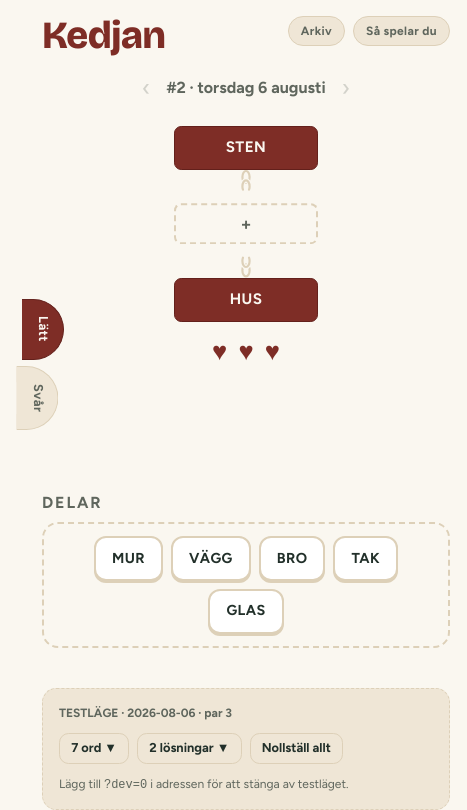
Scenario: the day board › switches between the day's two chains, each keeping its own board
Expected: the text "#2 · torsdag 6 augusti" is shown, [166,76,326,100]
Click the button "Svår" at (37, 398), box [16,366,58,430]
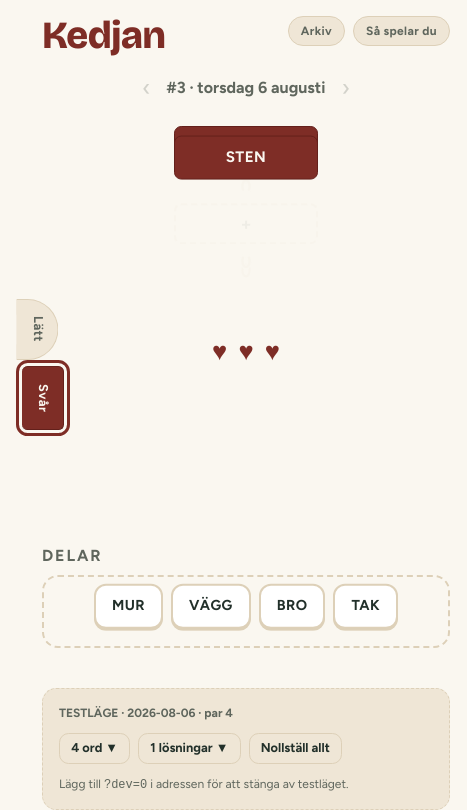
Expected: the text "#3 · torsdag 6 augusti" is shown, [167,76,326,100]
Click the button "Lätt" at (37, 329), box [16,299,58,360]
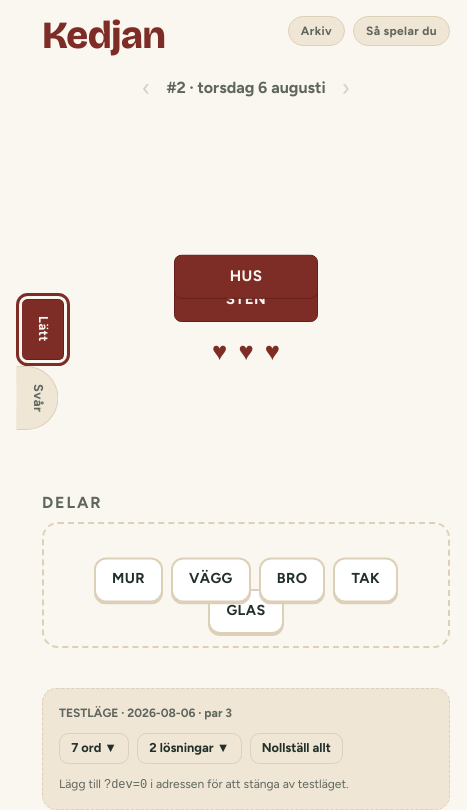
Expected: the text "#2 · torsdag 6 augusti" is shown, [166,76,326,100]
